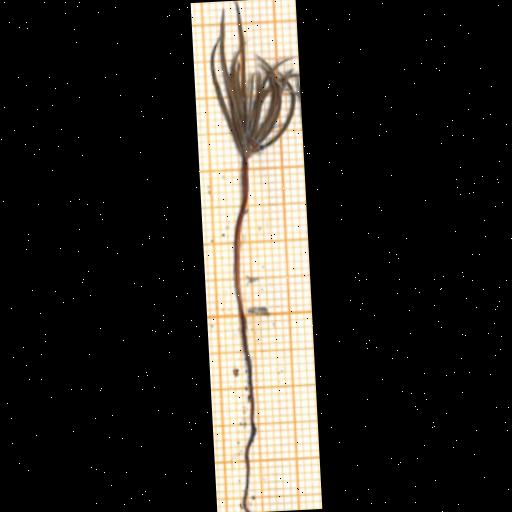flowerPinus: (208, 4, 297, 159)
rootPinus: (239, 308, 256, 498)
stemPinus: (231, 157, 249, 290)
